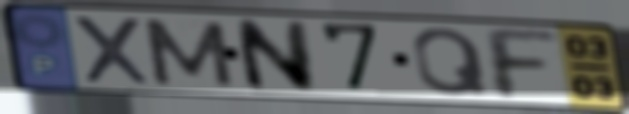7: (316, 21, 382, 96)
F: (477, 25, 564, 102)
M: (137, 16, 239, 89)
N: (230, 17, 319, 94)
Q: (409, 26, 493, 99)
X: (68, 13, 158, 88)
